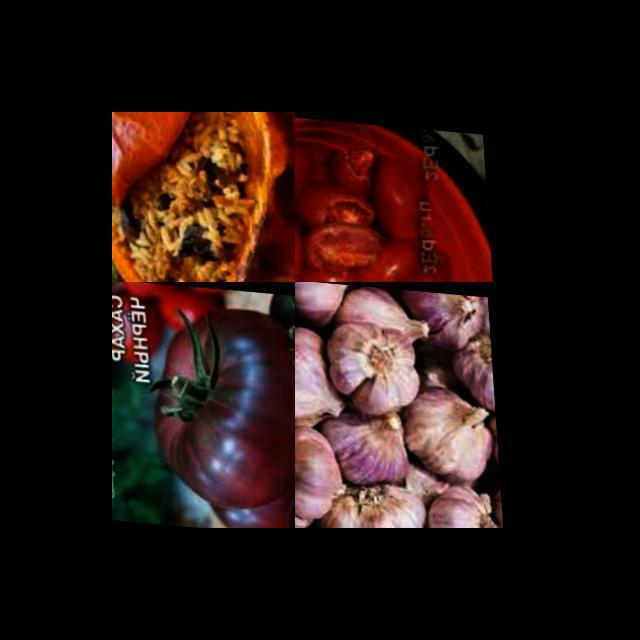garlic: (295, 282, 510, 528)
tomato: (137, 306, 295, 508), (295, 131, 477, 282), (247, 289, 295, 428), (191, 474, 295, 528)
